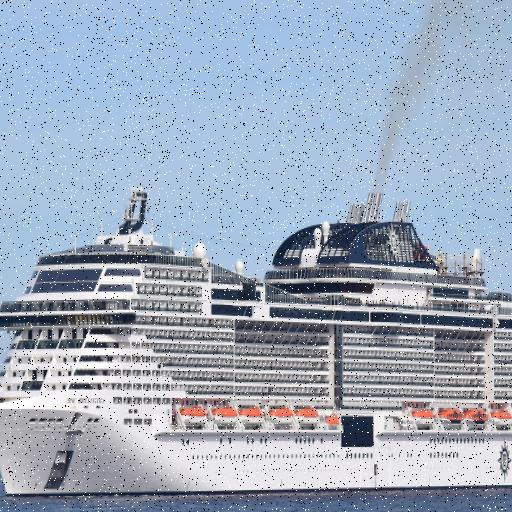cruises: (1, 184, 512, 503)
